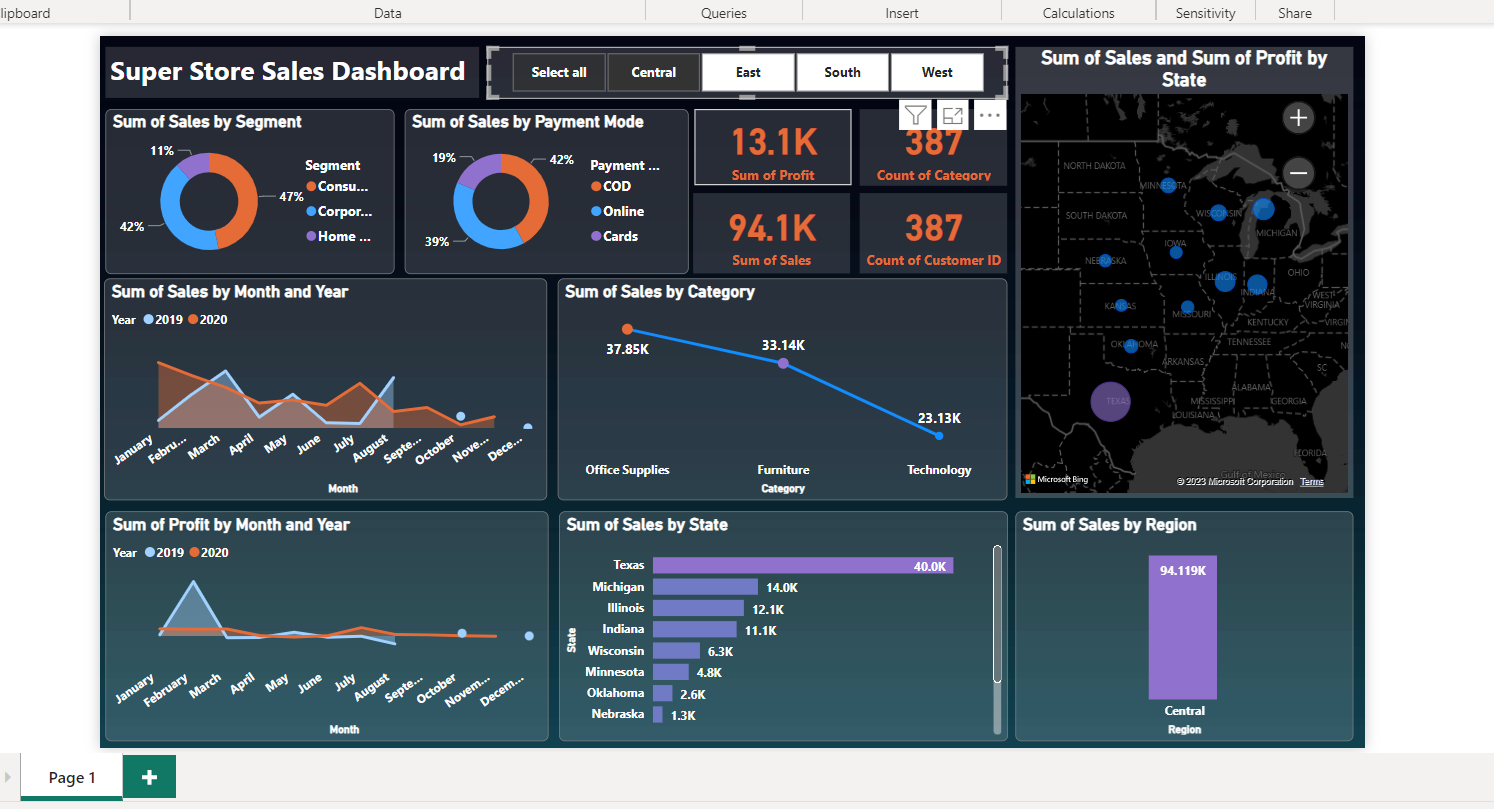

What the dashboard file says about the page in this screenshot:
{"tool":"powerbi","page":{"name":"Page 1","canvas":[1280,720],"ordinal":0},"visuals":[{"type":"lineChart","fields":{"Category":["SuperStore_Sales_Dataset.Category"],"Y":["Sum(SuperStore_Sales_Dataset.Sales)"]},"box":[463.2,245.6,455.2,224.2],"z":0},{"type":"map","title":"Sum of Sales and Sum of Profit by State","fields":{"Category":["SuperStore_Sales_Dataset.State"],"Size":["Sum(SuperStore_Sales_Dataset.Sales)"]},"box":[926.4,10.7,341.7,456.5],"z":1000},{"type":"areaChart","fields":{"Y":["Sum(SuperStore_Sales_Dataset.Profit)"],"Series":["SuperStore_Sales_Dataset.Order Date.Variation.Date Hierarchy.Year"],"Category":["SuperStore_Sales_Dataset.Order Date.Variation.Date Hierarchy.Month"]},"box":[5.3,481.1,448.5,232.3],"z":2000},{"type":"clusteredBarChart","fields":{"Y":["Sum(SuperStore_Sales_Dataset.Sales)"],"Category":["SuperStore_Sales_Dataset.State"]},"box":[464.5,480.5,453.8,232.3],"z":3000},{"type":"columnChart","fields":{"Category":["SuperStore_Sales_Dataset.Region"],"Y":["Sum(SuperStore_Sales_Dataset.Sales)"]},"box":[926.4,481.1,341.7,232.3],"z":4000},{"type":"areaChart","fields":{"Y":["Sum(SuperStore_Sales_Dataset.Sales)"],"Category":["SuperStore_Sales_Dataset.Order Date.Variation.Date Hierarchy.Month"],"Series":["SuperStore_Sales_Dataset.Order Date.Variation.Date Hierarchy.Year"]},"box":[4,245.6,448.5,224.2],"z":5000},{"type":"donutChart","fields":{"Category":["SuperStore_Sales_Dataset.Segment"],"Y":["Sum(SuperStore_Sales_Dataset.Sales)"]},"box":[5.3,73.4,292.3,166.9],"z":6000},{"type":"donutChart","fields":{"Category":["SuperStore_Sales_Dataset.Payment Mode"],"Y":["Sum(SuperStore_Sales_Dataset.Sales)"]},"box":[308.3,73.4,287,166.9],"z":7000},{"type":"card","fields":{"Values":["CountNonNull(SuperStore_Sales_Dataset.Customer ID)"]},"box":[768.8,158.8,149.5,81.4],"z":8000},{"type":"card","fields":{"Values":["Sum(SuperStore_Sales_Dataset.Sales)"]},"box":[600.7,158.8,158.8,81.4],"z":9000},{"type":"card","fields":{"Values":["Sum(SuperStore_Sales_Dataset.Profit)"]},"box":[602,73.4,158.8,77.4],"z":10000},{"type":"card","fields":{"Values":["CountNonNull(SuperStore_Sales_Dataset.Category)"]},"box":[768.8,73.4,149.5,77.4],"z":11000},{"type":"textbox","box":[5.3,10.7,377.7,52.1],"z":12000},{"type":"slicer","fields":{"Values":["SuperStore_Sales_Dataset.Region"]},"box":[392.4,10.7,525.9,52.1],"z":13000}]}

Visuals, with their boxes on the page's 1280x720 design canvas (x1, y1, x2, y2). These are canvas units, not pixel positions in the 1494x809 screenshot, which may show the page scaled, cropped or inside an application window:
lineChart - SuperStore_Sales_Dataset.Category x Sum(SuperStore_Sales_Dataset.Sales): left=463, top=246, right=918, bottom=470
"Sum of Sales and Sum of Profit by State" map: left=926, top=11, right=1268, bottom=467
areaChart - Sum(SuperStore_Sales_Dataset.Profit) x SuperStore_Sales_Dataset.Order Date.Variation.Date Hierarchy.Year: left=5, top=481, right=454, bottom=713
clusteredBarChart - Sum(SuperStore_Sales_Dataset.Sales) x SuperStore_Sales_Dataset.State: left=464, top=480, right=918, bottom=713
columnChart - SuperStore_Sales_Dataset.Region x Sum(SuperStore_Sales_Dataset.Sales): left=926, top=481, right=1268, bottom=713
areaChart - Sum(SuperStore_Sales_Dataset.Sales) x SuperStore_Sales_Dataset.Order Date.Variation.Date Hierarchy.Month: left=4, top=246, right=452, bottom=470
donutChart - SuperStore_Sales_Dataset.Segment x Sum(SuperStore_Sales_Dataset.Sales): left=5, top=73, right=298, bottom=240
donutChart - SuperStore_Sales_Dataset.Payment Mode x Sum(SuperStore_Sales_Dataset.Sales): left=308, top=73, right=595, bottom=240
card - CountNonNull(SuperStore_Sales_Dataset.Customer ID): left=769, top=159, right=918, bottom=240
card - Sum(SuperStore_Sales_Dataset.Sales): left=601, top=159, right=760, bottom=240
card - Sum(SuperStore_Sales_Dataset.Profit): left=602, top=73, right=761, bottom=151
card - CountNonNull(SuperStore_Sales_Dataset.Category): left=769, top=73, right=918, bottom=151
textbox: left=5, top=11, right=383, bottom=63
slicer - SuperStore_Sales_Dataset.Region: left=392, top=11, right=918, bottom=63
